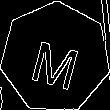M_N: (27, 27, 84, 88)
